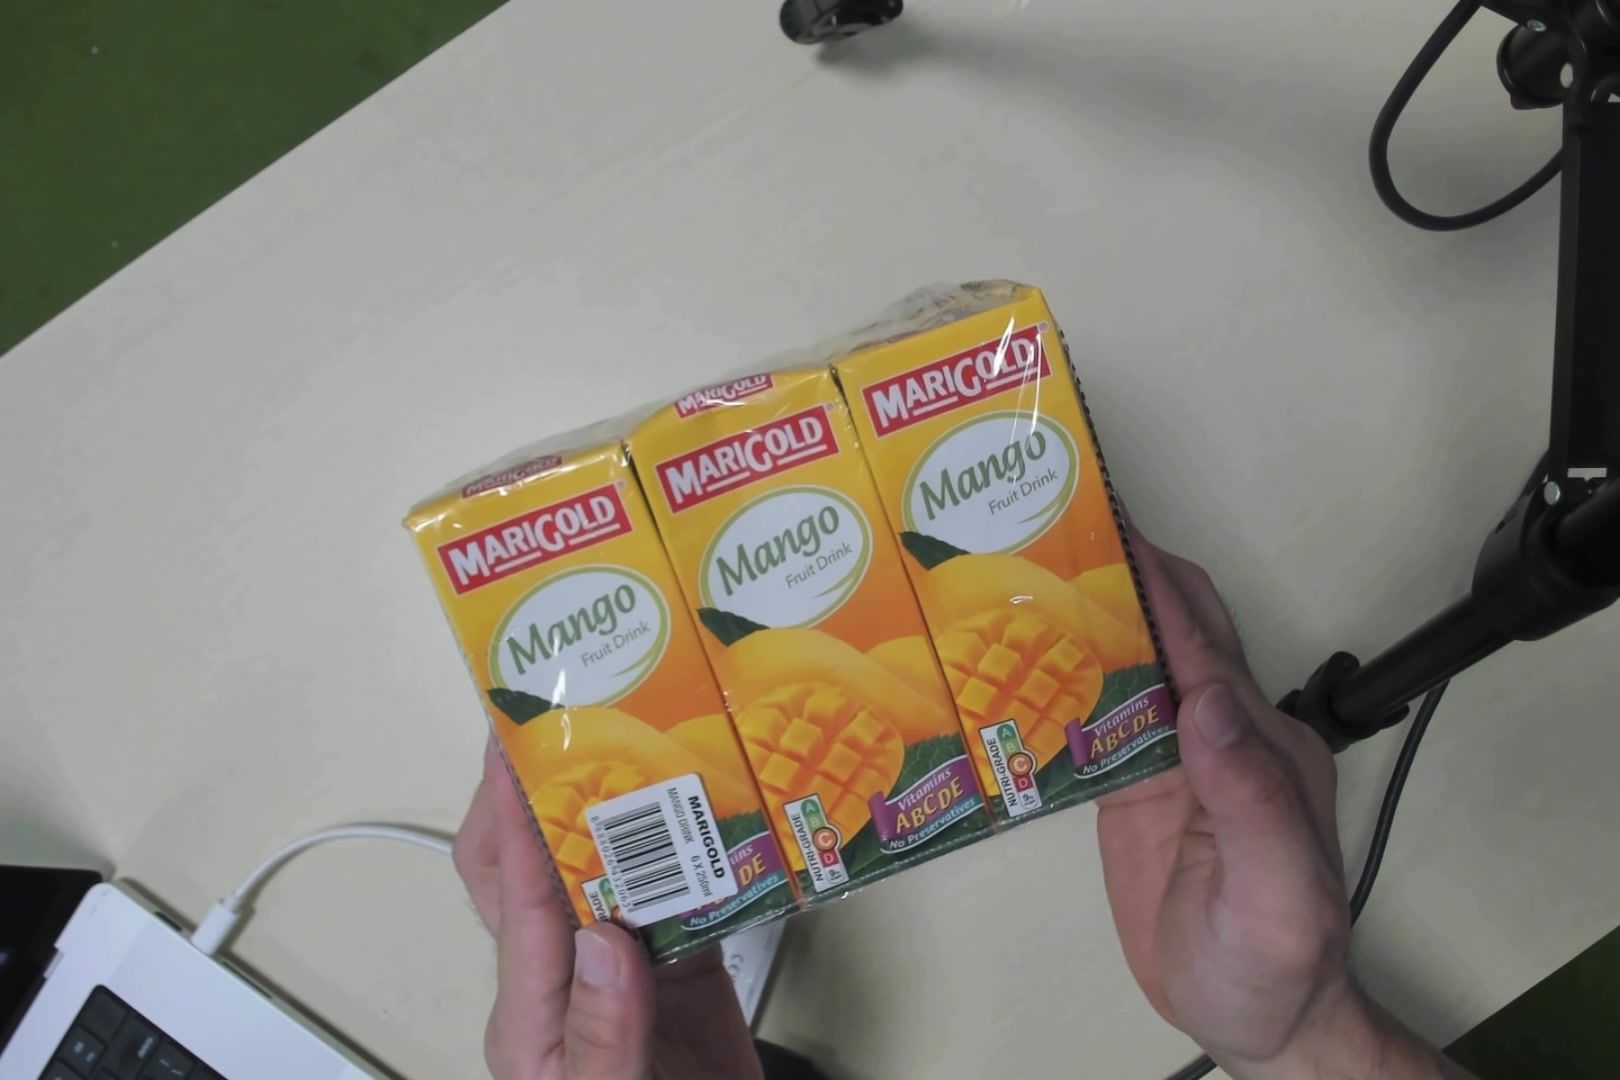FruitJuice_700-799g_Halal_NonHealthy: (459, 324, 1145, 896)
